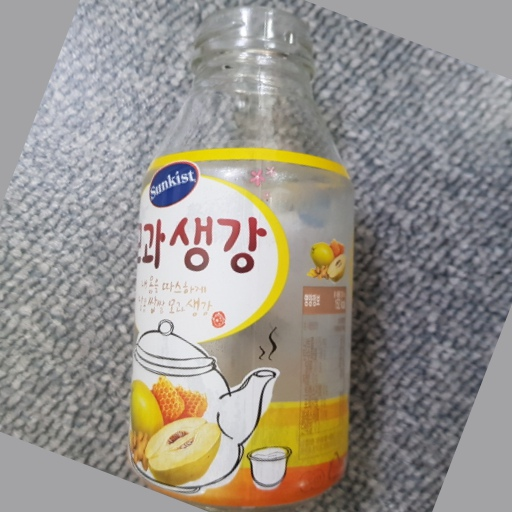Glass_4: (129, 8, 353, 507)
